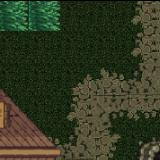Hide: (110, 113, 160, 160)
Slow: (0, 0, 60, 31)
